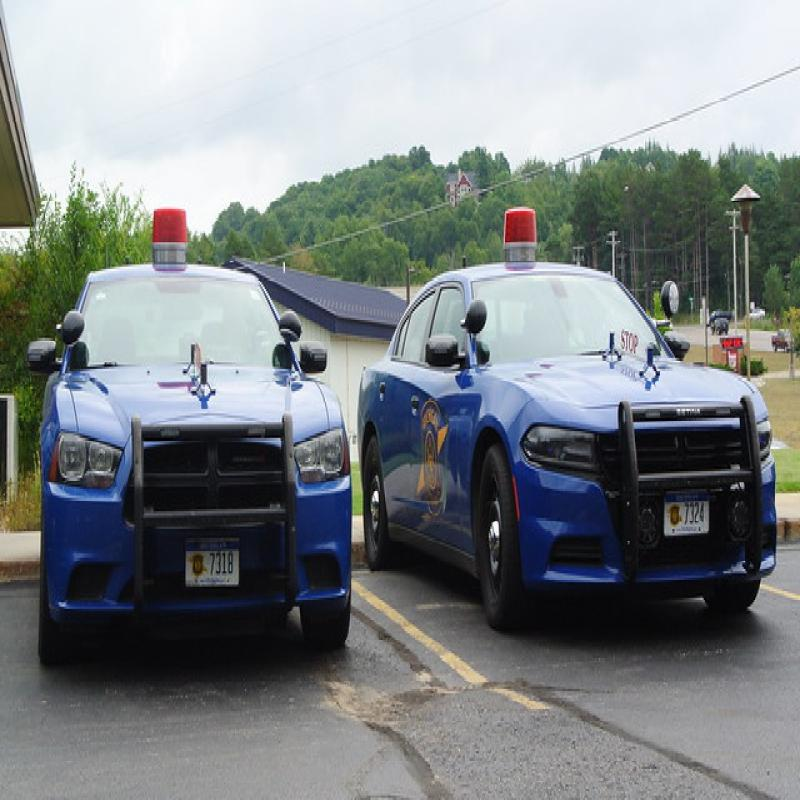AmbulanceSiren: (154, 185, 209, 278), (504, 186, 547, 272)
